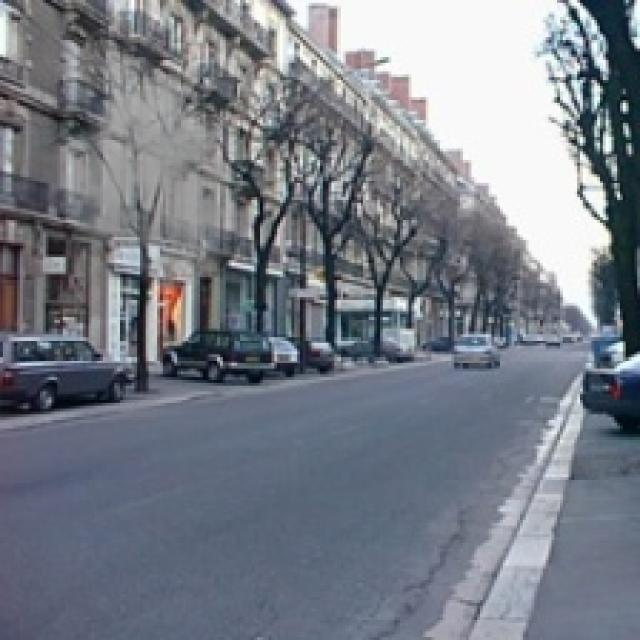smoke: (49, 48, 257, 292)
